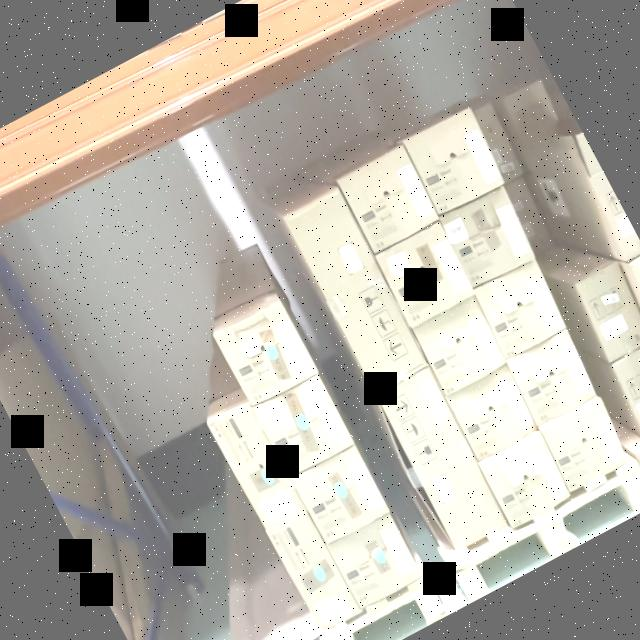box: (285, 190, 430, 397), (378, 367, 512, 553), (206, 401, 302, 524), (213, 299, 319, 408), (372, 214, 477, 324), (250, 375, 354, 481), (340, 148, 440, 256), (435, 180, 535, 288), (269, 510, 358, 625), (407, 111, 504, 210), (477, 262, 572, 362), (293, 448, 388, 544), (415, 298, 507, 394), (332, 516, 422, 610), (479, 434, 568, 526), (542, 396, 630, 487), (508, 334, 594, 422), (452, 369, 536, 456), (578, 269, 640, 351), (613, 344, 640, 434)
